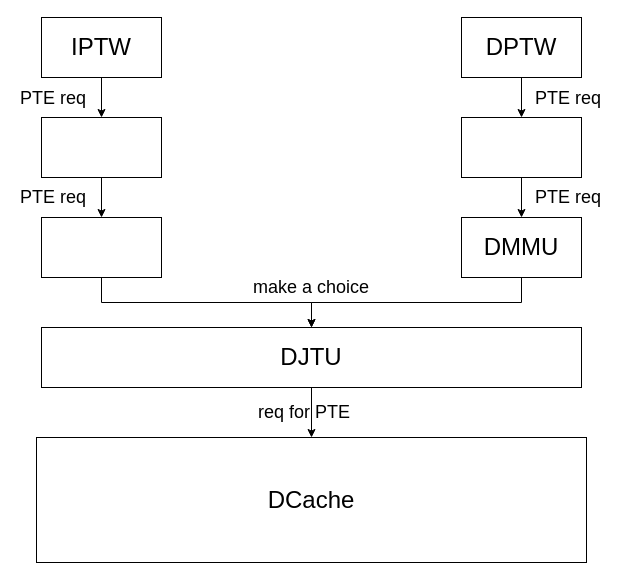
The diagram is 621 pixels wide and 580 high, and some of its shapes have lost their labels. The centre of each missing label's shape, as x and y in pixels:
DTLB: the point at 521,147
IMMU: the point at 101,247
ITLB: the point at 101,147
